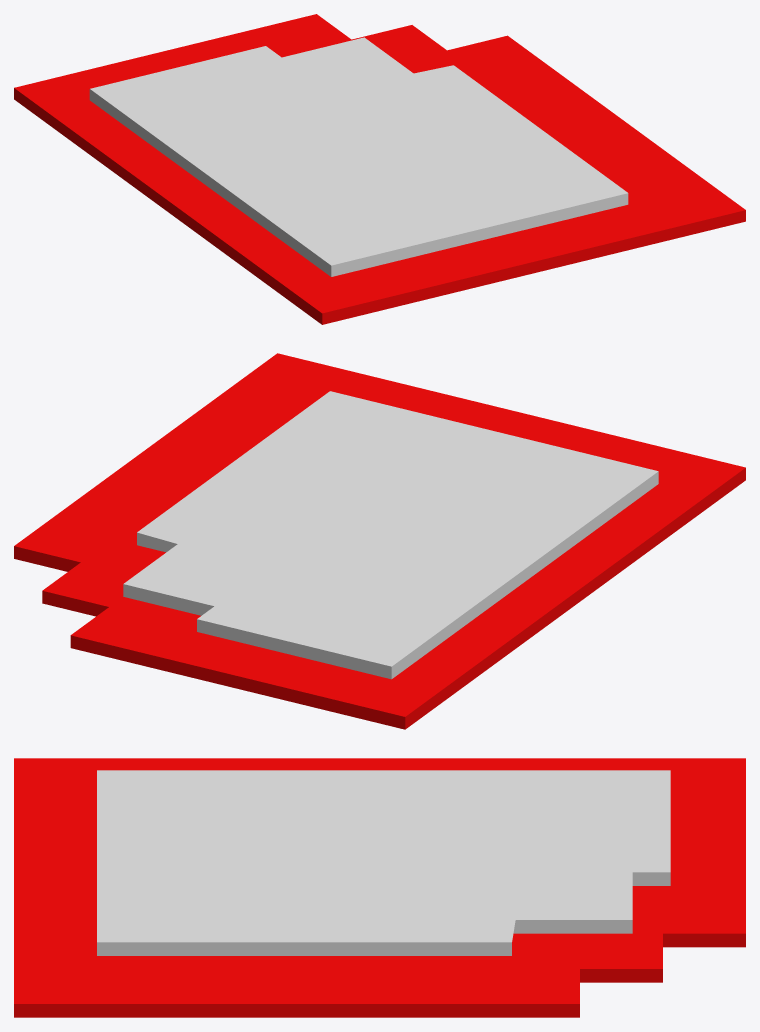
The model's file is Captchalogue Card Old.fbx.
The picture shows the model from 3 angles, top to bottom: view 1: azimuth 30°, elevation 25°; view 2: azimuth 150°, elevation 25°; view 3: azimuth 270°, elevation 25°; orthographic projection. The views are drawn at different scales.
Visible parts, largest first — view 1: Card, Hole Caps; view 2: Card, Hole Caps; view 3: Card, Hole Caps.
Part boxes in pixels (box(x1,y1,x2,y2)): Card: box(14, 14, 745, 324); Hole Caps: box(266, 55, 552, 249); Card: box(14, 353, 745, 729); Hole Caps: box(164, 555, 305, 592); Card: box(14, 758, 745, 1017); Hole Caps: box(532, 848, 590, 909).
Size of the model in its own units: 385 by 20 by 485.
